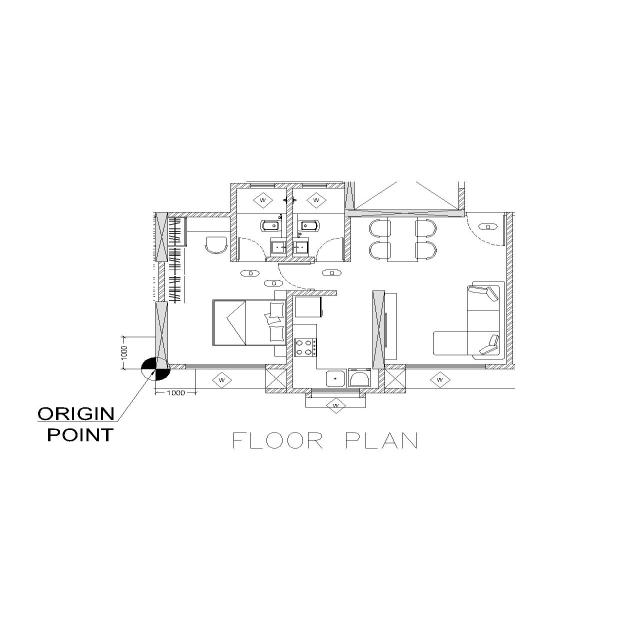Column: (341, 180, 468, 219), (371, 289, 388, 370), (154, 300, 170, 370), (153, 211, 171, 264)
Door: (463, 208, 507, 219), (307, 260, 317, 292), (314, 256, 346, 264), (234, 257, 268, 264)
Opening: (335, 289, 375, 295)
Window: (404, 362, 488, 371), (184, 362, 268, 370), (310, 386, 362, 394), (248, 182, 276, 190), (301, 182, 329, 190)
